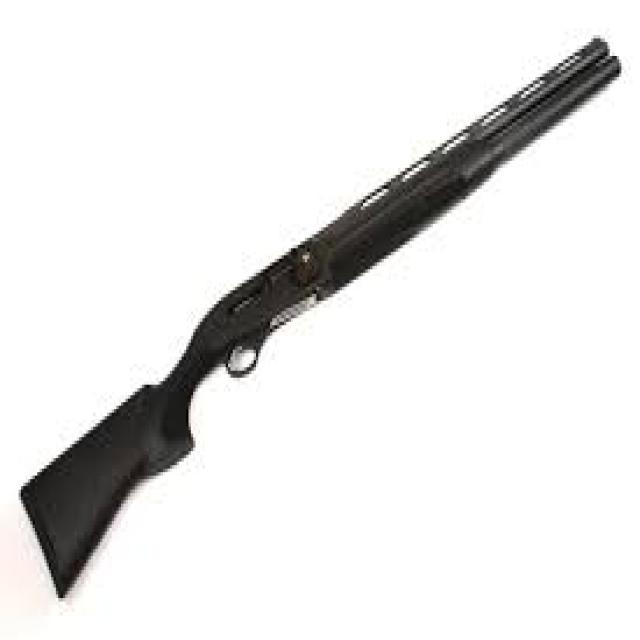rifle: (12, 26, 624, 605)
